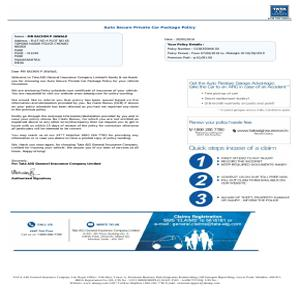text: (10, 68, 142, 185), (188, 80, 292, 110), (165, 36, 283, 59), (187, 118, 292, 141), (13, 33, 76, 64), (219, 193, 293, 206), (221, 156, 288, 169), (221, 174, 290, 184)
